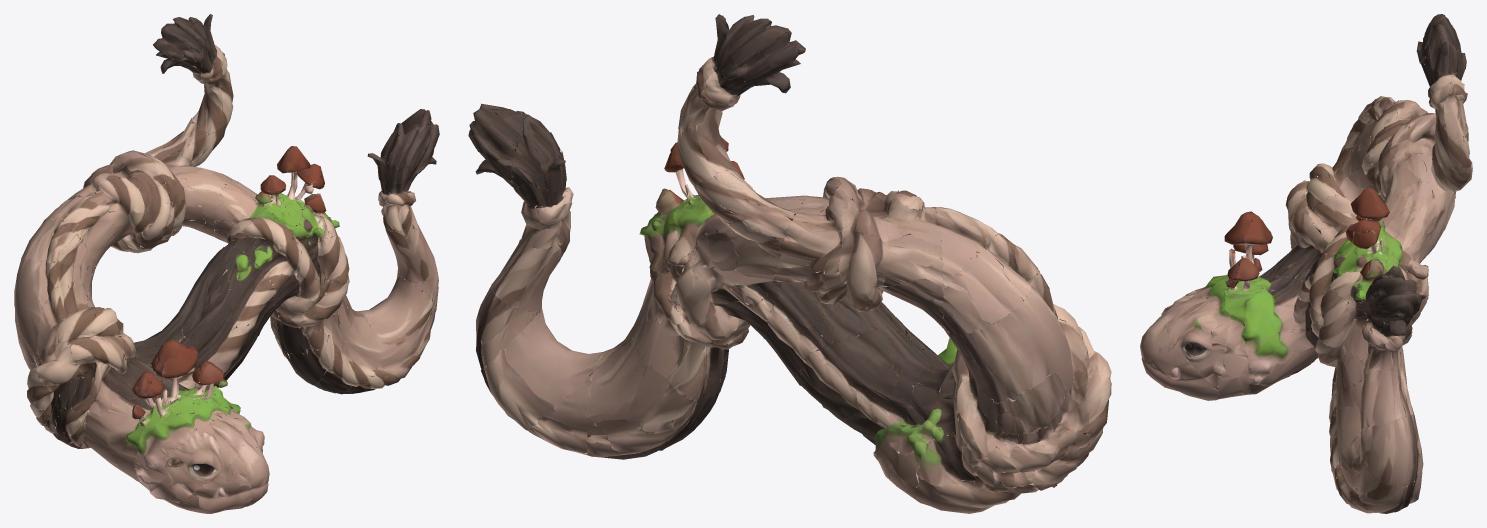
The model's file is threadwyrm.glb.
3 renders of one model, left to right at view 1: azimuth 30°, elevation 25°; view 2: azimuth 150°, elevation 25°; view 3: azimuth 270°, elevation 25°, orthographic. The views are drawn at different scales.
Parts seen in each view (by area): view 1: Mesh_0; view 2: Mesh_0; view 3: Mesh_0.
Part boxes in pixels (box(x1,y1,x2,y2)): Mesh_0: box(14, 14, 439, 513); Mesh_0: box(468, 14, 1111, 513); Mesh_0: box(1140, 14, 1472, 513).
Bounding box in the file's own units: 1.9 × 1.58 × 1.17.
1 material, 1 textured.
